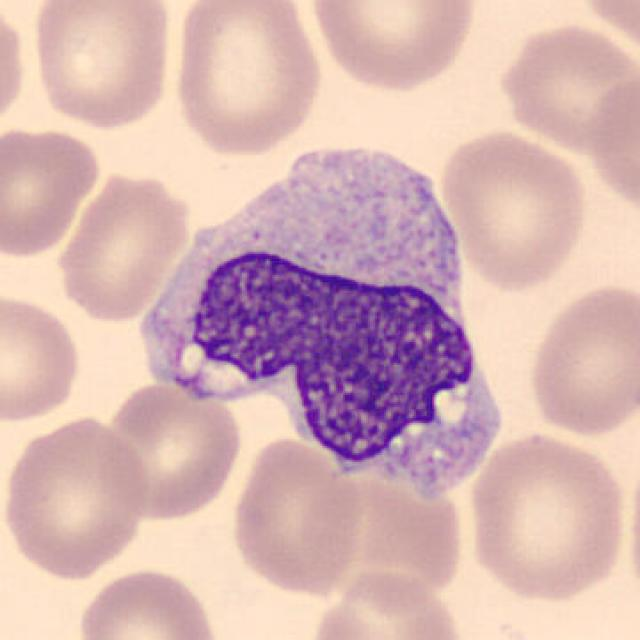Monocyte: (128, 125, 489, 460)
RBC: (462, 428, 631, 606), (436, 125, 592, 295), (0, 412, 153, 582), (169, 0, 327, 159), (226, 432, 368, 599), (52, 166, 194, 326), (94, 377, 246, 524), (28, 0, 178, 132), (492, 20, 636, 156), (524, 278, 638, 441), (304, 0, 482, 93), (0, 122, 103, 259), (306, 566, 468, 640), (0, 289, 84, 427), (73, 564, 224, 640), (570, 0, 640, 60), (0, 2, 30, 138), (624, 444, 640, 619)
